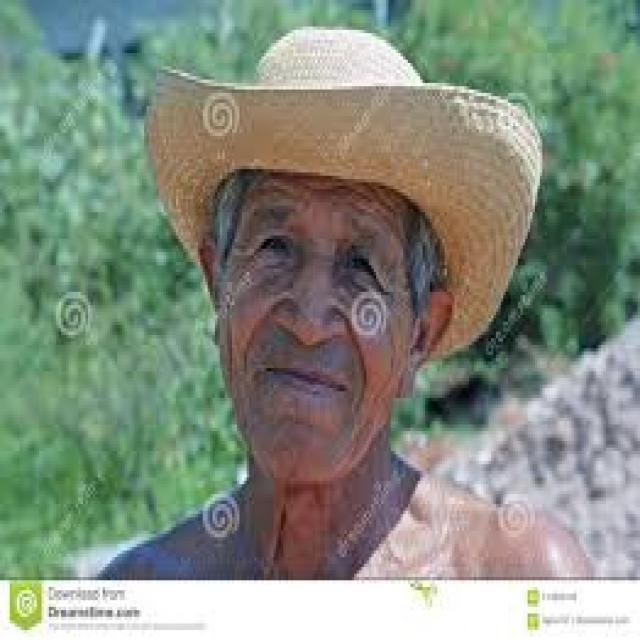hat: (137, 10, 557, 312)
